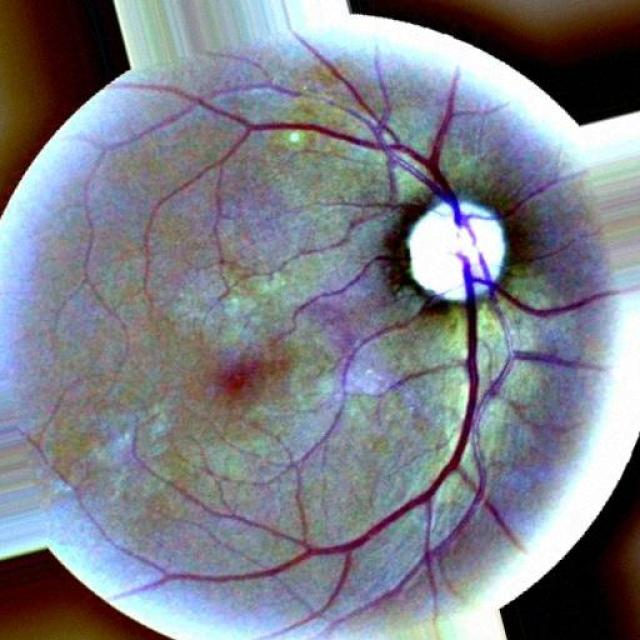Macula: (219, 362, 259, 394)
Nerves: (141, 38, 618, 609), (291, 198, 401, 258)
Optic Disk: (406, 196, 506, 302)
